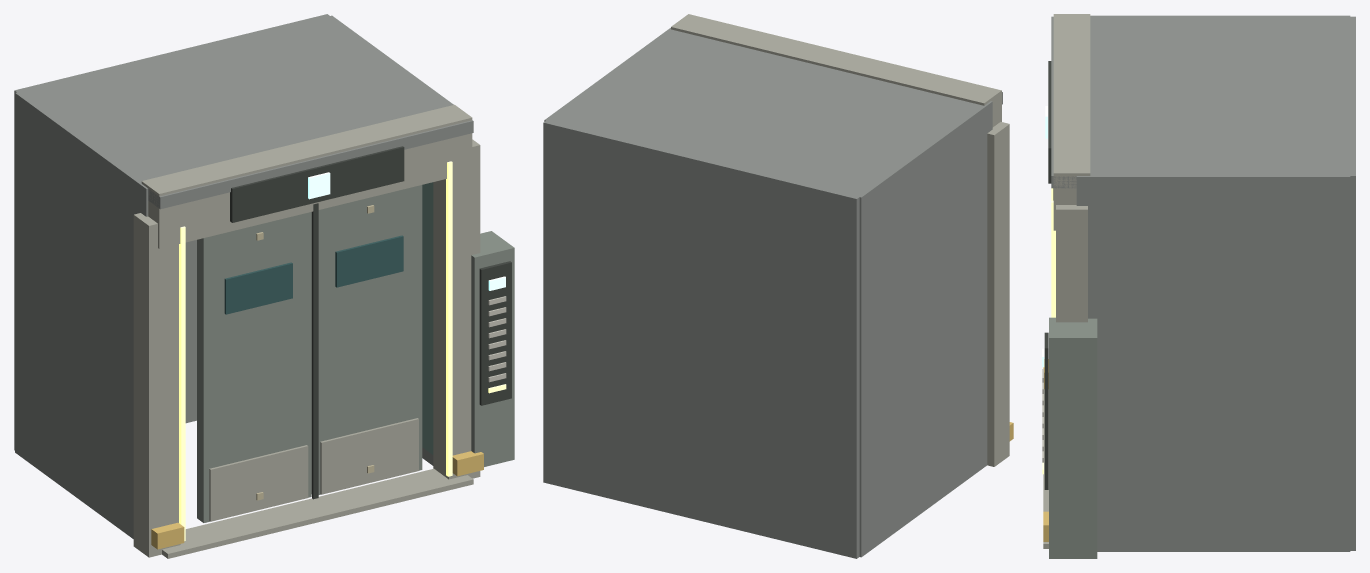
Rendered from shelter_lift.glb.
3 views of the same model, side by side, from view 1: azimuth 30°, elevation 25°; view 2: azimuth 150°, elevation 25°; view 3: azimuth 270°, elevation 25° (orthographic). The views are drawn at different scales.
Visible parts, largest first — view 1: WALL_lift side, ceiling hood, lift leaf, lift leaf.001, front jamb, overhead beam, front jamb.001, FLOOR_lift sill, lift rear concrete, header inset, door lower armor, control pedestal (+10 smaller); view 2: lift rear concrete, WALL_lift side, ceiling hood, front jamb, overhead beam; view 3: WALL_lift side.001, ceiling hood, control pedestal, overhead beam, lift rear concrete, front jamb.001, control face, WALL_lift side, amber door reveal.001, header inset, FLOOR_lift sill.
Boxes of the visible parts, box(x1,y1,x2,y2) form: WALL_lift side: box(15, 89, 153, 538); ceiling hood: box(25, 21, 473, 209); lift leaf: box(197, 212, 311, 522); lift leaf.001: box(311, 185, 422, 494); front jamb: box(133, 213, 180, 557); overhead beam: box(141, 104, 472, 248); front jamb.001: box(433, 139, 480, 479); FLOOR_lift sill: box(162, 468, 473, 558); lift rear concrete: box(14, 14, 337, 450); header inset: box(230, 146, 404, 222); door lower armor: box(209, 445, 308, 521); control pedestal: box(471, 231, 514, 466); lift rear concrete: box(543, 115, 866, 558); WALL_lift side: box(847, 101, 992, 557); ceiling hood: box(554, 29, 1002, 191); front jamb: box(987, 122, 1009, 466); overhead beam: box(671, 14, 1001, 127); WALL_lift side.001: box(1076, 168, 1350, 551); ceiling hood: box(1051, 16, 1333, 188); control pedestal: box(1049, 317, 1097, 558); overhead beam: box(1053, 14, 1090, 230); lift rear concrete: box(1334, 16, 1355, 550); front jamb.001: box(1056, 205, 1087, 322); control face: box(1044, 332, 1048, 489); WALL_lift side: box(1090, 15, 1350, 24); amber door reveal.001: box(1051, 200, 1055, 317); header inset: box(1048, 61, 1051, 183); FLOOR_lift sill: box(1043, 389, 1048, 548).
Size of the model in its own units: 3.8 by 3.62 by 2.73.
